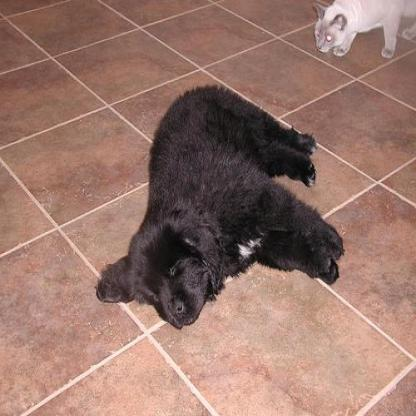Newfoundland: (91, 80, 345, 330)
